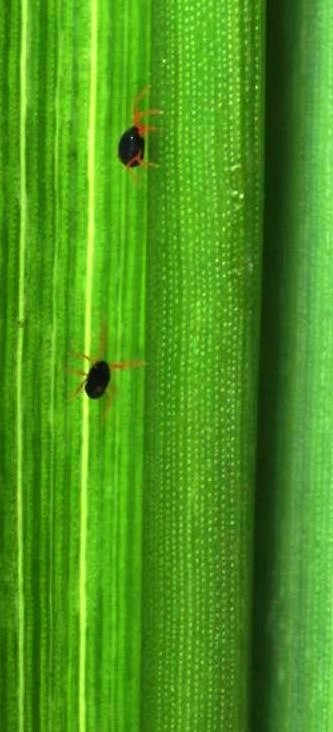Wheat Red Spider: (54, 297, 150, 447), (101, 76, 180, 193)
